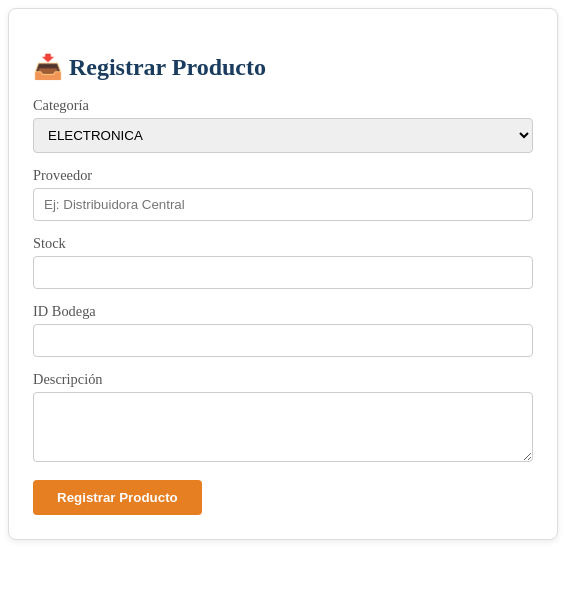
ProductoForm › muestra mensaje de error cuando la API rechaza la solicitud
This screenshot has width=575, height=610.
Type "Distribuidora Central" into the field with placeholder "Ej: Distribuidora Central" at (283, 204), box x1=33 y1=188 x2=533 y2=221
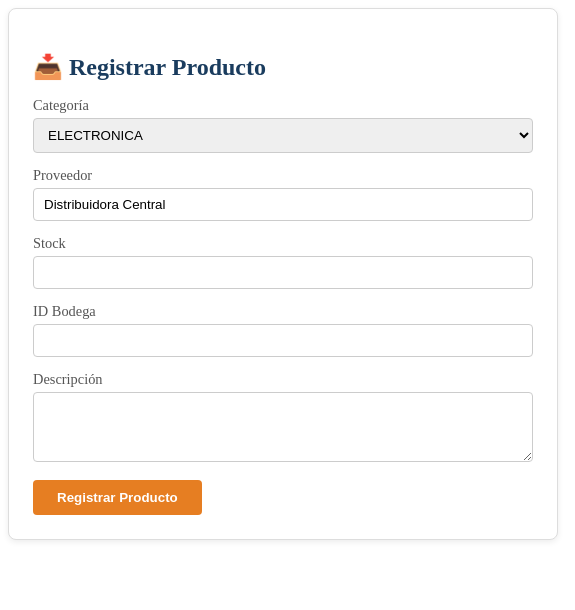
Type "15" into the number field below "Stock" at (283, 272), box x1=33 y1=256 x2=533 y2=289
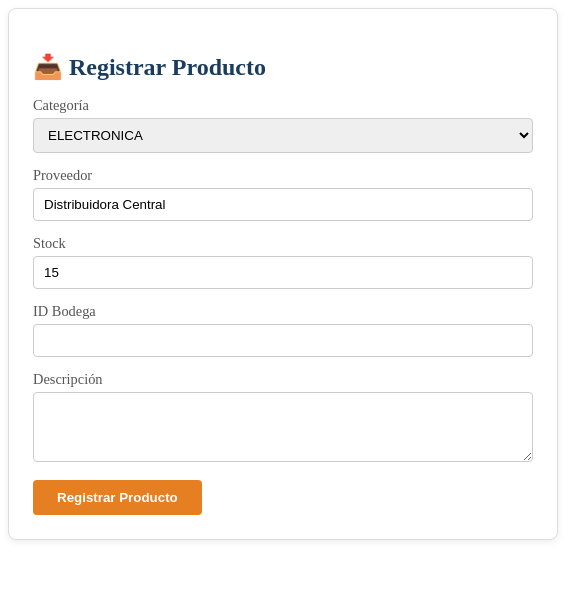
Type "2" into the number field below "ID Bodega" at (283, 340), box x1=33 y1=324 x2=533 y2=357
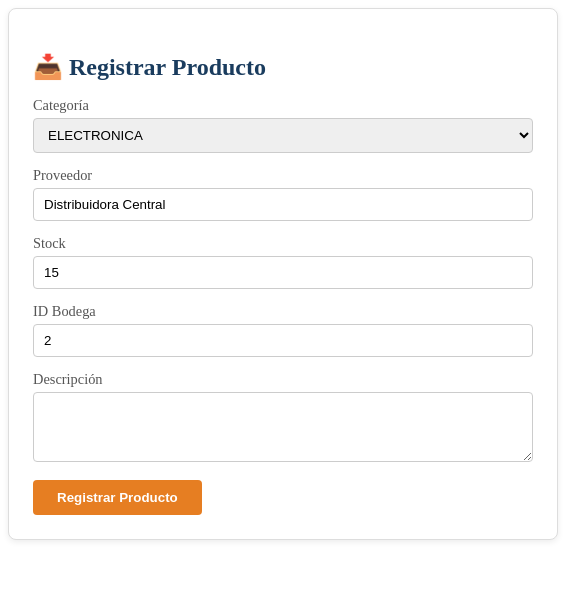
Click the button "Registrar Producto" at (117, 497), box x1=33 y1=480 x2=202 y2=515
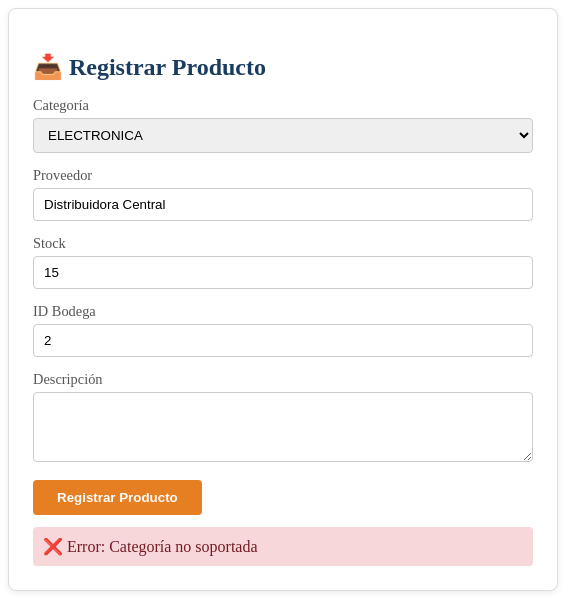
Expected: the text "❌ Error: Categoría no soportada" is shown, x1=33 y1=527 x2=533 y2=566
